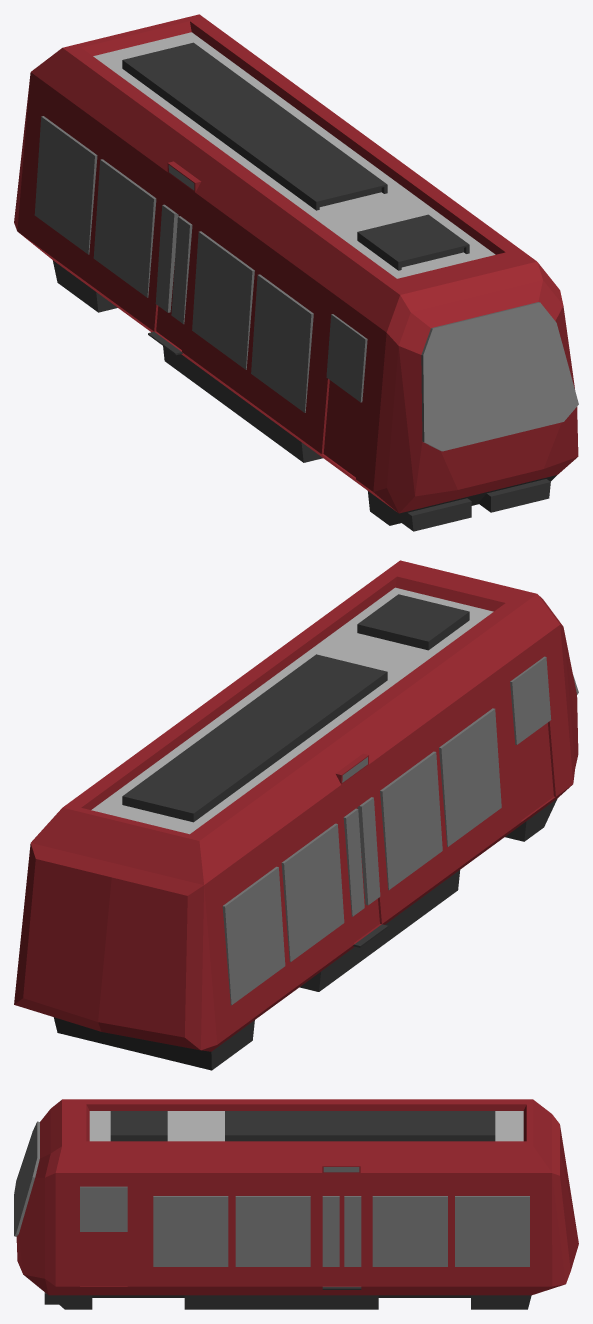
Rendered from quaternius-public-transport-train.glb.
3 renders of one model, top to bottom at view 1: azimuth 30°, elevation 25°; view 2: azimuth 150°, elevation 25°; view 3: azimuth 270°, elevation 25°, orthographic. The views are drawn at different scales.
Visible parts, largest first — view 1: Train; view 2: Train; view 3: Train.
Boxes of the visible parts, bbox=[...] form: Train: bbox=[14, 14, 578, 531]; Train: bbox=[14, 560, 578, 1070]; Train: bbox=[14, 1099, 578, 1309].
Size of the model in its own units: 2.13 by 2.2 by 7.02.
